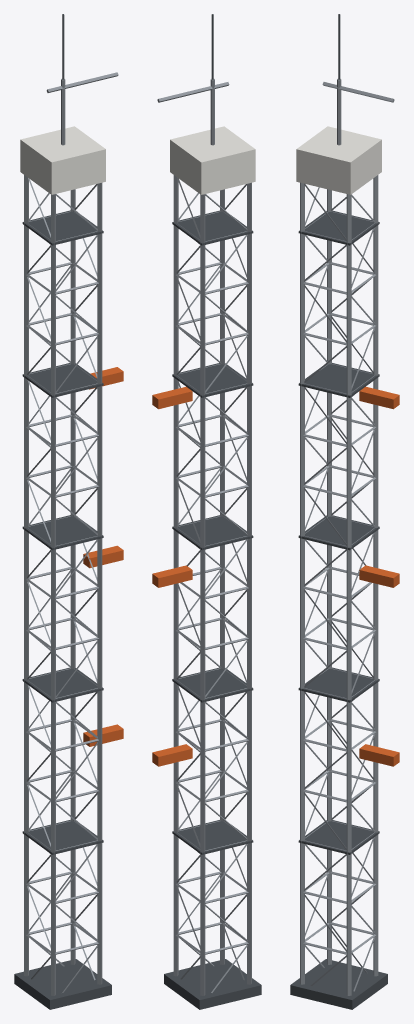
Rendered from service_tower.glb.
3 renders of one model, left to right at view 1: azimuth 30°, elevation 25°; view 2: azimuth 210°, elevation 25°; view 3: azimuth 330°, elevation 25°, orthographic.
Visible parts, largest first — view 1: service_tower__steel, service_tower__grating, service_tower__white, service_tower__steel_dk, service_tower__orange; view 2: service_tower__steel, service_tower__grating, service_tower__white, service_tower__steel_dk, service_tower__orange; view 3: service_tower__steel, service_tower__grating, service_tower__white, service_tower__steel_dk, service_tower__orange.
Part boxes in pixels (x1,y1,x2,y2): service_tower__steel: [24, 72, 118, 995]; service_tower__grating: [22, 210, 103, 854]; service_tower__white: [20, 126, 105, 194]; service_tower__steel_dk: [14, 14, 111, 1009]; service_tower__orange: [83, 367, 123, 746]; service_tower__steel: [157, 79, 251, 995]; service_tower__grating: [172, 210, 253, 854]; service_tower__white: [170, 126, 255, 194]; service_tower__steel_dk: [164, 14, 261, 1009]; service_tower__orange: [152, 386, 192, 766]; service_tower__steel: [300, 79, 394, 995]; service_tower__grating: [298, 210, 379, 854]; service_tower__white: [296, 126, 381, 194]; service_tower__steel_dk: [290, 14, 387, 1009]; service_tower__orange: [359, 386, 399, 766].
Bounding box in the file's own units: 11.4 × 120 × 8.
